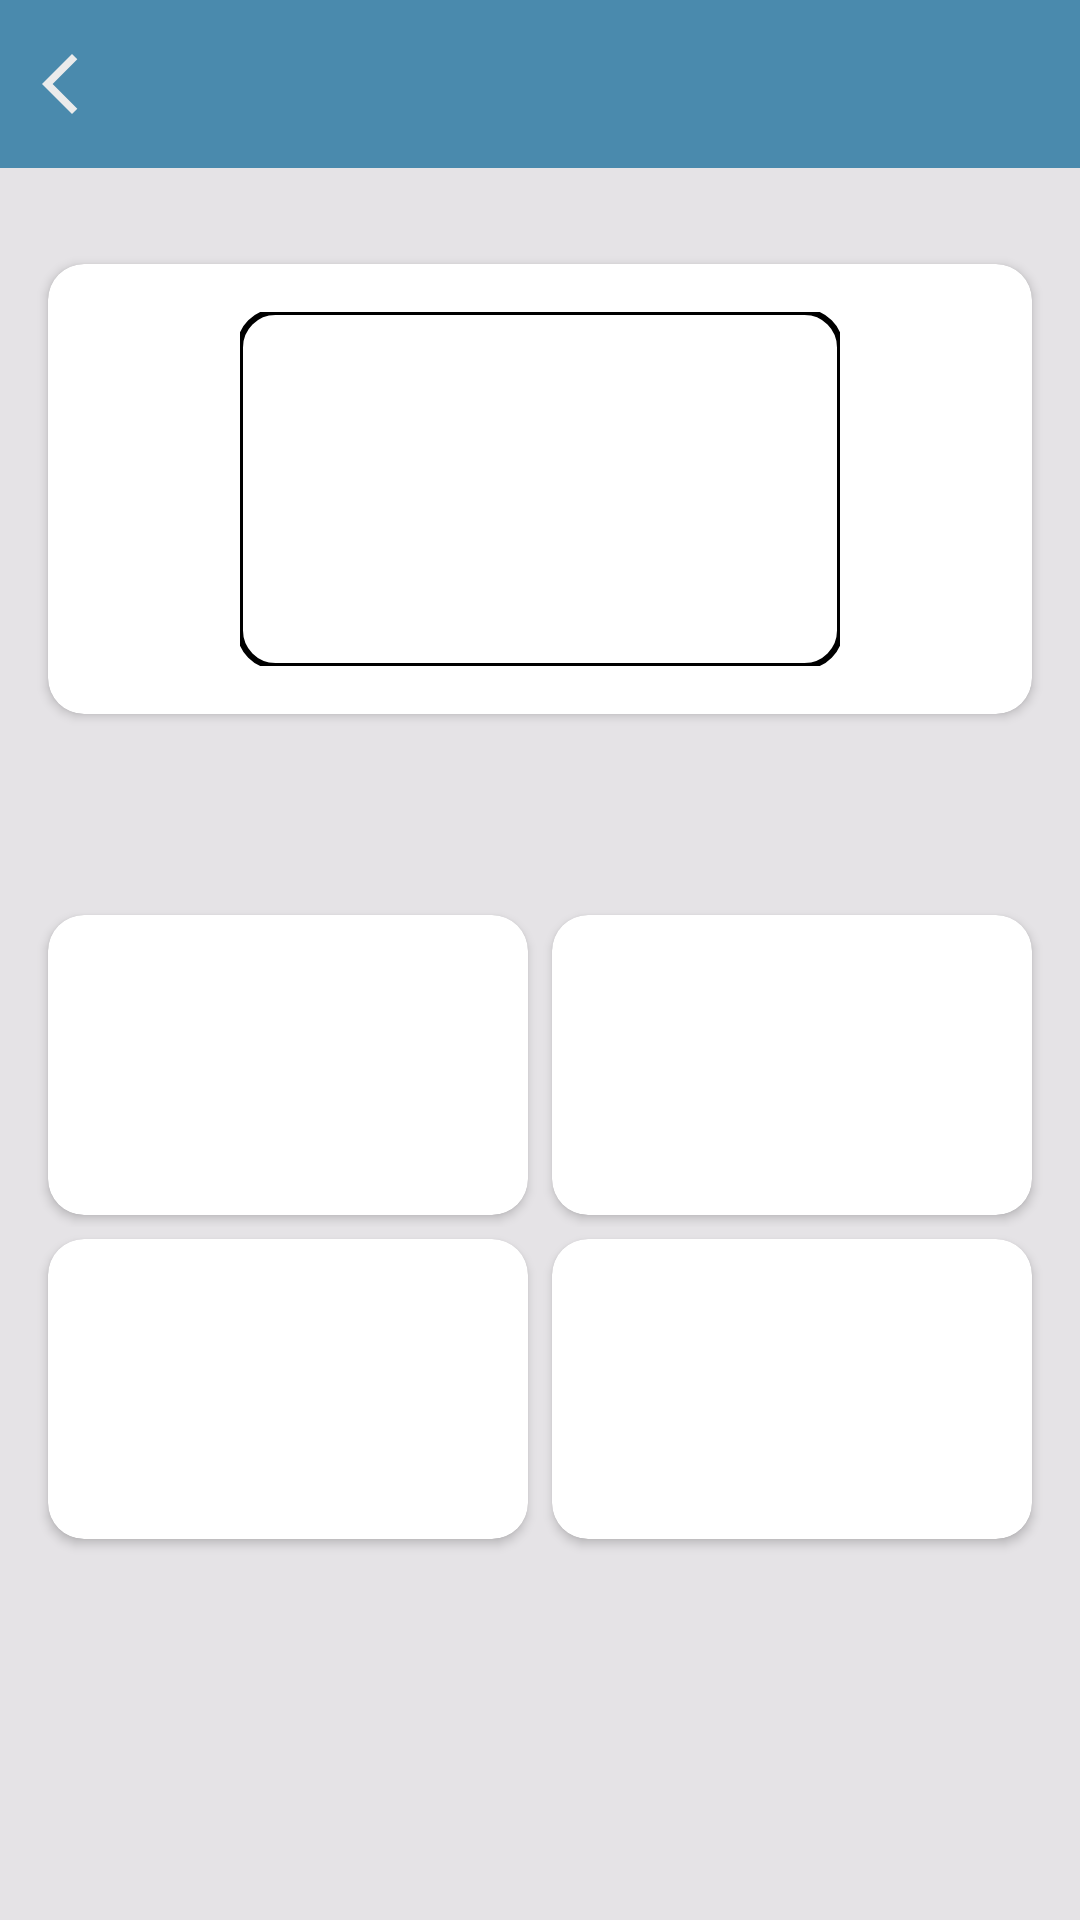

Locate icon controls on the screen. Image size 1080 × 1920, boxes as region(x1, y1, x2, y2).
back: region(42, 54, 77, 114)
